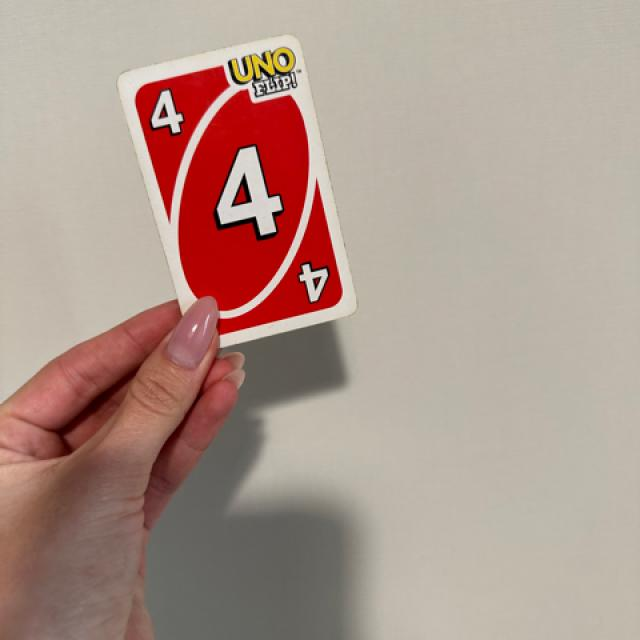lred-4: (140, 75, 203, 148)
